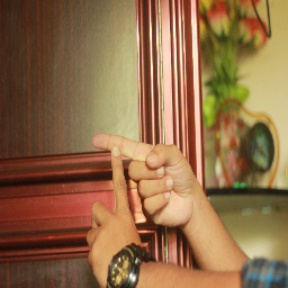T: (76, 125, 167, 242)
